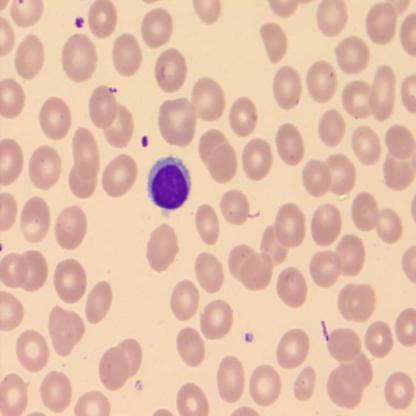Lymphocyte: (148, 155, 192, 218)
